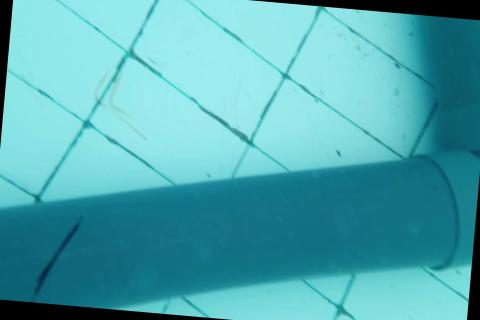keretakan: (29, 212, 85, 306)
